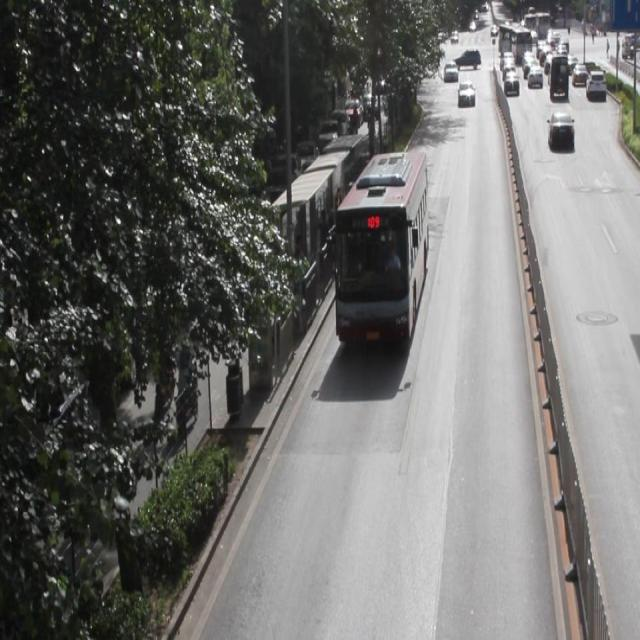car: (546, 112, 572, 145)
van: (336, 151, 427, 341)
